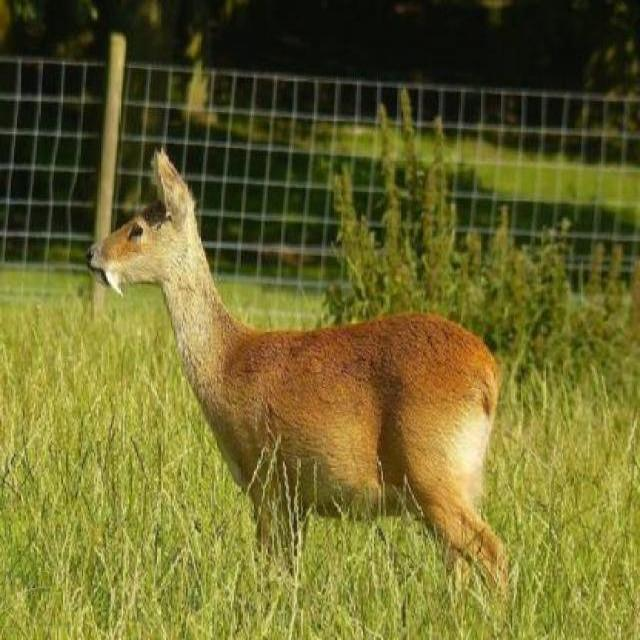deer: (73, 136, 524, 613)
